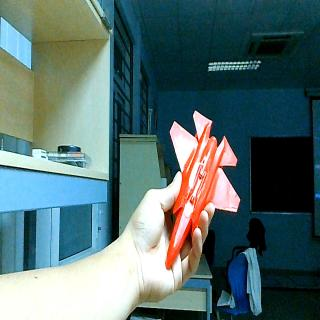Jet: (165, 110, 241, 271)
